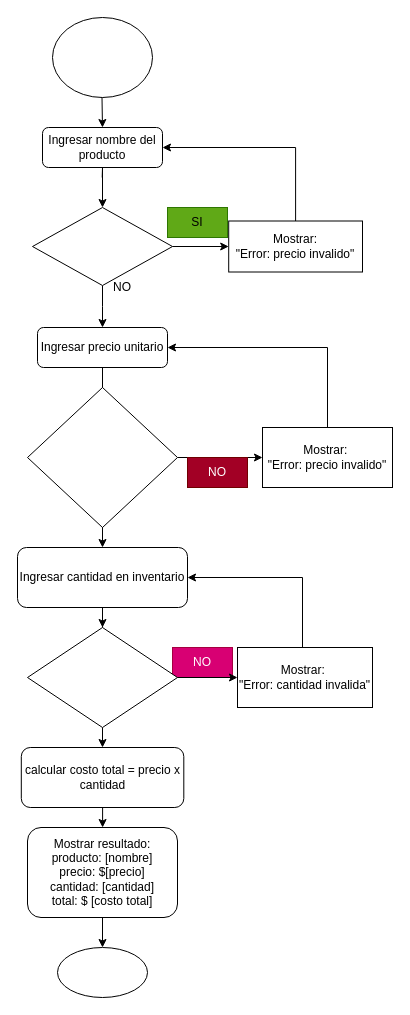
Some shapes in this 410 by 1015 pixel diagram are drawn without their labels. The shapes that lost their labels are listed below. From the top down, each one's centre as x and y in pixels, then its label:
point (102, 57): inicio
point (102, 246): Nombre esta vacio?
point (102, 457): "Precio" es un numero valido y >0?
point (102, 677): Cantidad es entero y >0?
point (102, 972): Fin
